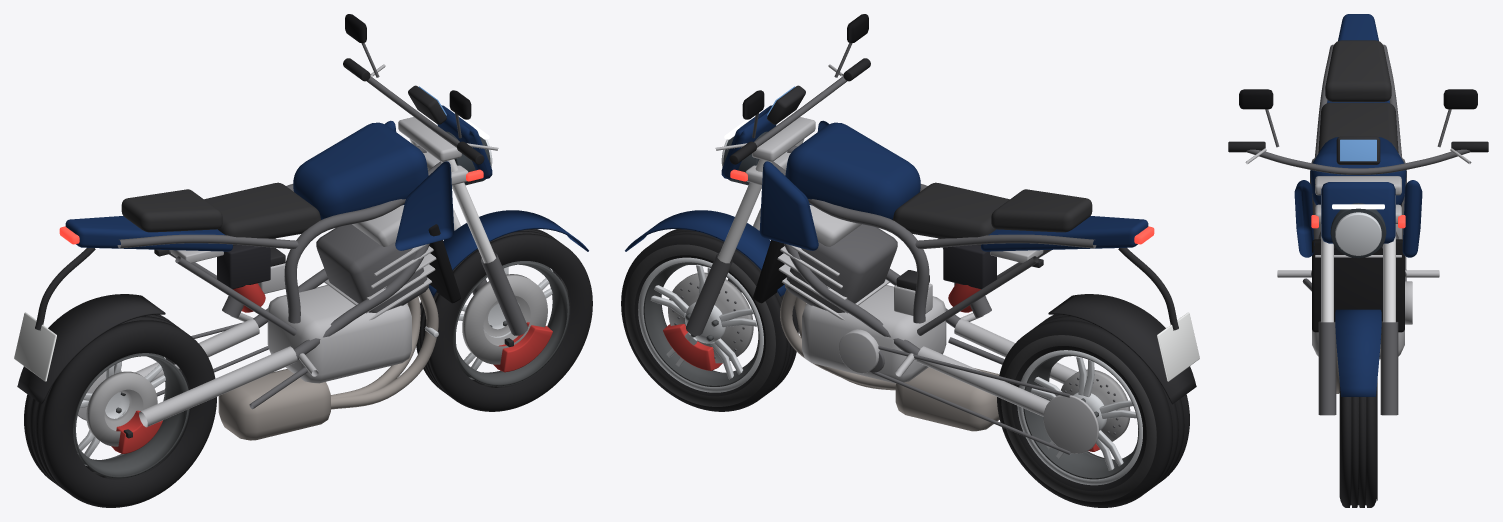
File: motorrad.glb
3 renders of one model, left to right at view 1: azimuth 30°, elevation 25°; view 2: azimuth 150°, elevation 25°; view 3: azimuth 270°, elevation 25°, orthographic. The views are drawn at different scales.
Visible parts, largest first — view 1: bt:rad_h, bt:motor, bt:rad_v, bt:rahmen, bt:auspuff, tank_verkleidung, bt:bremse_v, kotfluegel_hinten, bt:gabel, sitzbank, bt:bremse_h, tank_hutze_-1 (+11 smaller); view 2: bt:rad_h, bt:rad_v, bt:motor, bt:rahmen, tank_verkleidung, bt:auspuff, kotfluegel_hinten, bt:gabel, sitzbank, bt:bremse_v, tank_hutze_1, sitzbank_sozius (+14 smaller); view 3: bt:gabel, bt:rad_v, bt:kuehler, kotfluegel_vorn, sitzbank_sozius, sitzbank, bt:lenker, lampenmaske, tank_verkleidung, projektor_1, bt:kombiinstrument, tank_hutze_1 (+7 smaller).
Boxes of the visible parts, x1=… form: bt:rad_h: x1=24, y1=314, x2=216, y2=507; bt:motor: x1=267, y1=205, x2=436, y2=383; bt:rad_v: x1=416, y1=229, x2=592, y2=411; bt:rahmen: x1=117, y1=146, x2=441, y2=427; bt:auspuff: x1=218, y1=288, x2=438, y2=440; tank_verkleidung: x1=293, y1=122, x2=428, y2=219; bt:bremse_v: x1=462, y1=274, x2=552, y2=372; kotfluegel_hinten: x1=17, y1=294, x2=165, y2=404; bt:gabel: x1=398, y1=117, x2=527, y2=335; sitzbank: x1=204, y1=182, x2=321, y2=245; bt:bremse_h: x1=86, y1=371, x2=162, y2=453; tank_hutze_-1: x1=395, y1=161, x2=454, y2=250; bt:rad_h: x1=997, y1=314, x2=1189, y2=507; bt:rad_v: x1=621, y1=229, x2=798, y2=411; bt:motor: x1=777, y1=205, x2=946, y2=383; bt:rahmen: x1=772, y1=146, x2=1096, y2=416; tank_verkleidung: x1=785, y1=122, x2=920, y2=219; bt:auspuff: x1=780, y1=289, x2=999, y2=431; kotfluegel_hinten: x1=1048, y1=294, x2=1196, y2=404; bt:gabel: x1=686, y1=117, x2=815, y2=335; sitzbank: x1=892, y1=182, x2=1009, y2=245; bt:bremse_v: x1=663, y1=272, x2=753, y2=370; tank_hutze_1: x1=759, y1=161, x2=818, y2=250; sitzbank_sozius: x1=991, y1=189, x2=1092, y2=232; bt:gabel: x1=1315, y1=176, x2=1401, y2=415; bt:rad_v: x1=1339, y1=380, x2=1377, y2=507; bt:kuehler: x1=1312, y1=239, x2=1404, y2=332; kotfluegel_vorn: x1=1335, y1=309, x2=1381, y2=396; sitzbank_sozius: x1=1325, y1=40, x2=1391, y2=101; sitzbank: x1=1318, y1=102, x2=1398, y2=152; bt:lenker: x1=1228, y1=109, x2=1488, y2=174; lampenmaske: x1=1321, y1=182, x2=1395, y2=243; tank_verkleidung: x1=1310, y1=137, x2=1406, y2=205; projektor_1: x1=1335, y1=212, x2=1381, y2=255; bt:kombiinstrument: x1=1336, y1=136, x2=1380, y2=164; tank_hutze_1: x1=1402, y1=180, x2=1422, y2=257.
Bounding box in the file's own units: 2.03 × 1.29 × 0.84.
